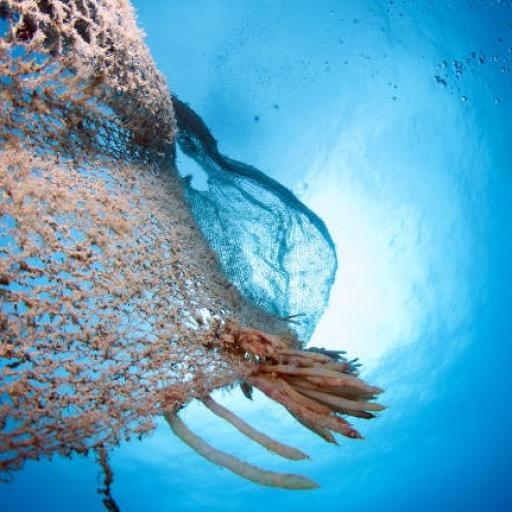net: (0, 2, 384, 512)
